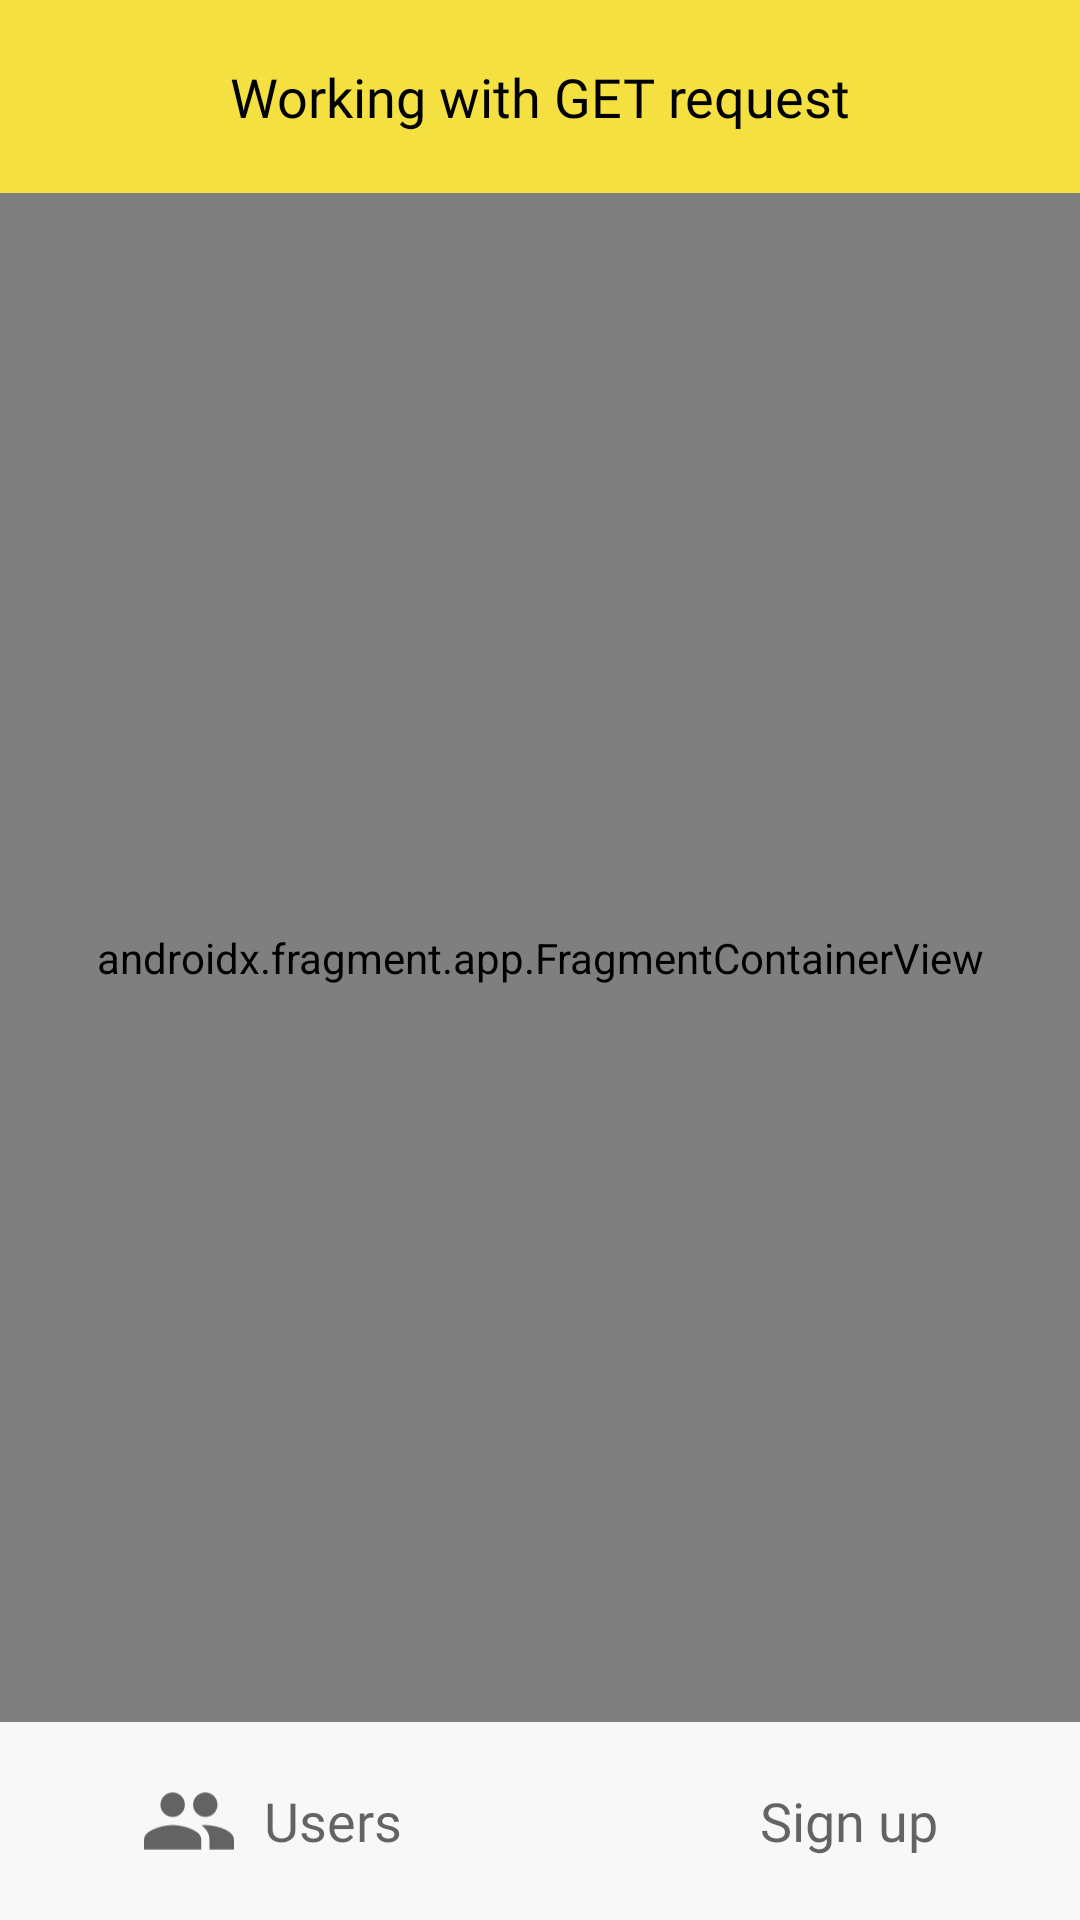

Screen size 1080 x 1920. Icon name, then its center in pixels as (x=x, y=y):
people: (x=189, y=1821)
